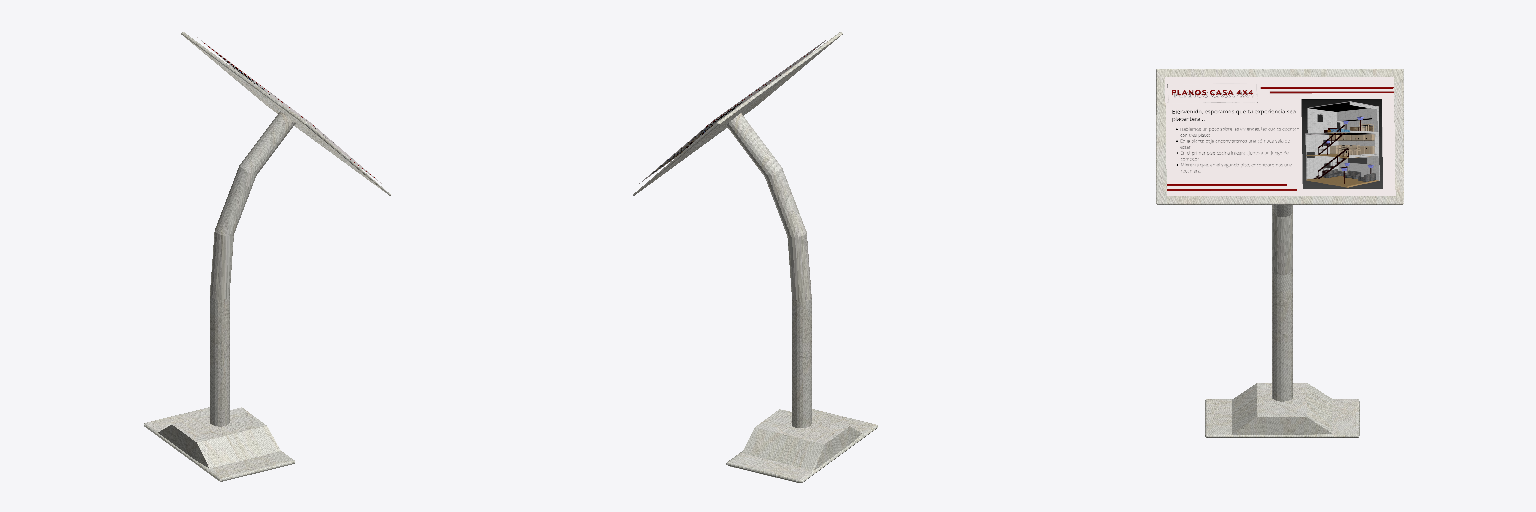
The picture shows the model from 3 angles: view 1: azimuth 30°, elevation 25°; view 2: azimuth 150°, elevation 25°; view 3: azimuth 270°, elevation 25°; orthographic projection.
Parts seen in each view (by area): view 1: Tube001, ChamferBox001, ChamferBox002; view 2: Tube001, ChamferBox001, ChamferBox002, Plane001; view 3: Plane001, ChamferBox001, ChamferBox002, Tube001.
Part boxes in pixels (bbox=[...]): Tube001: bbox=[210, 111, 295, 426]; ChamferBox001: bbox=[144, 407, 294, 481]; ChamferBox002: bbox=[181, 32, 390, 195]; Tube001: bbox=[726, 113, 811, 427]; ChamferBox001: bbox=[726, 409, 877, 482]; ChamferBox002: bbox=[633, 32, 842, 195]; Plane001: bbox=[639, 40, 825, 183]; Plane001: bbox=[1165, 77, 1395, 195]; ChamferBox001: bbox=[1205, 383, 1359, 437]; ChamferBox002: bbox=[1156, 69, 1403, 204]; Tube001: bbox=[1272, 205, 1292, 401].
Size of the model in its own units: 10.76 by 25.3 by 15.66.
Materials: 2 (2 with a texture image).